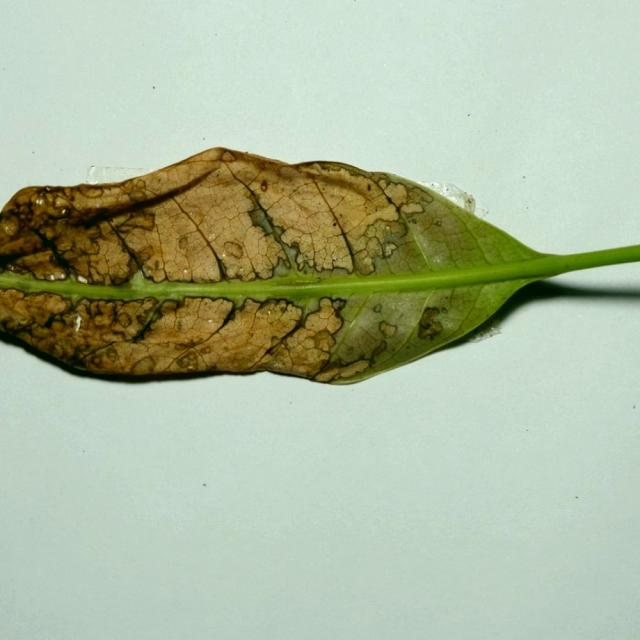Anthracnose: (84, 166, 223, 217), (302, 177, 358, 272), (324, 290, 393, 367), (241, 182, 297, 276), (271, 160, 389, 204), (353, 177, 410, 265), (75, 311, 150, 365), (104, 215, 153, 281), (260, 303, 312, 363), (397, 211, 437, 284), (201, 223, 248, 276), (133, 291, 176, 340), (201, 212, 230, 283), (411, 286, 439, 350), (43, 232, 79, 279), (55, 295, 89, 332), (0, 245, 34, 268), (301, 296, 322, 325), (43, 310, 65, 330), (175, 339, 204, 350), (69, 294, 82, 307), (232, 298, 246, 310)
Lemon: (0, 147, 639, 388)
